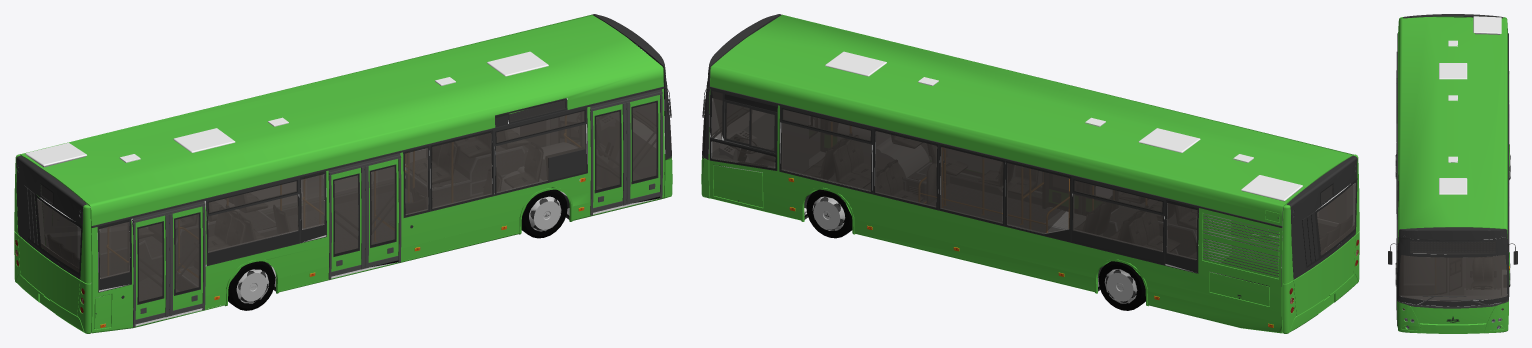
File: bus_maz203.glb
The picture shows the model from 3 angles, left to right: view 1: azimuth 30°, elevation 25°; view 2: azimuth 150°, elevation 25°; view 3: azimuth 270°, elevation 25°; orthographic projection. The views are drawn at different scales.
Parts seen in each view (by area): view 1: Material2 (×8), Material3 (×4); view 2: Material2 (×7), Material3 (×3); view 3: Material2 (×9), Material3 (×3).
Boxes of the visible parts, <box> form: Material2 (×8): <box>14,14,672,333</box>; Material3 (×4): <box>25,45,639,303</box>; Material2 (×7): <box>701,14,1359,333</box>; Material3 (×3): <box>708,51,1357,303</box>; Material2 (×9): <box>1388,14,1517,333</box>; Material3 (×3): <box>1399,16,1506,252</box>.
Size of the model in its own units: 477 by 112 by 119.
53 materials, 16 textured.
